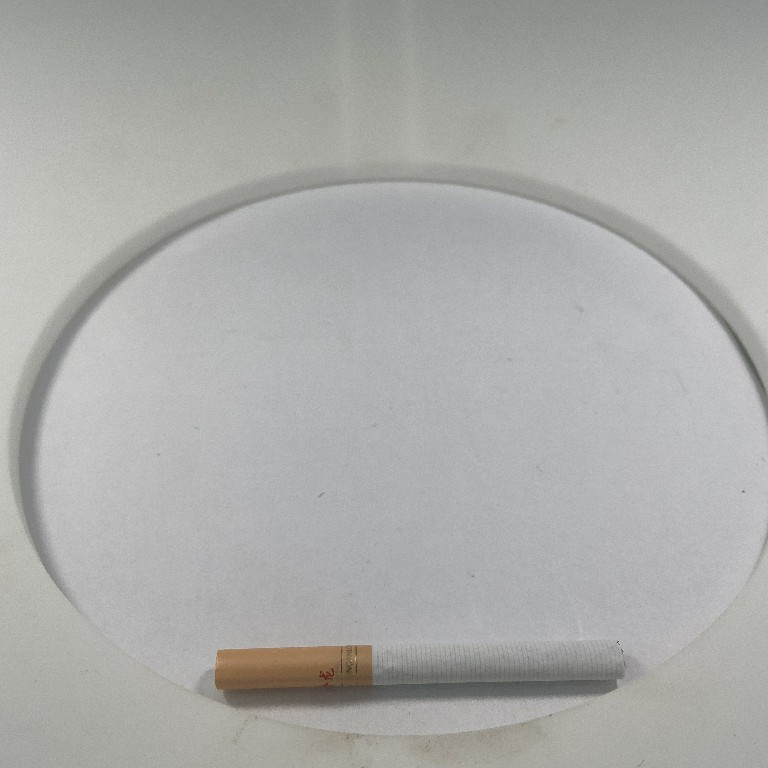cigarette: (211, 636, 629, 694)
